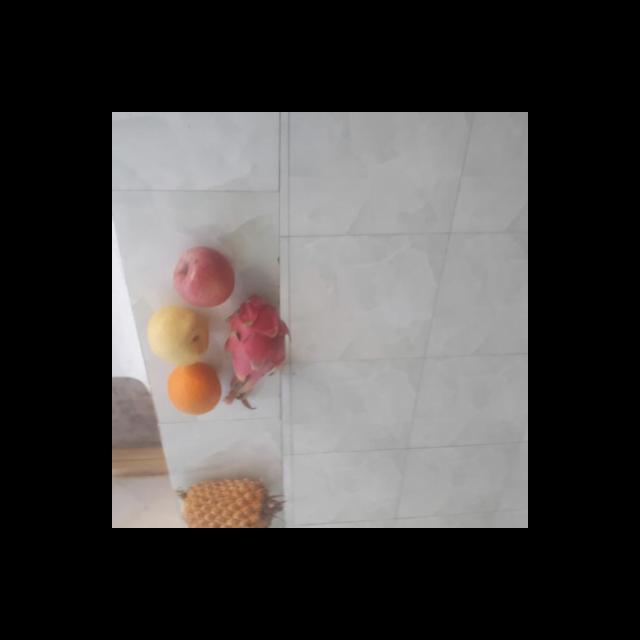apple: (170, 246, 235, 309)
orange: (166, 364, 220, 416)
pear: (146, 307, 213, 364)
pineapple: (178, 474, 272, 528)
pitaya: (213, 296, 291, 391)
